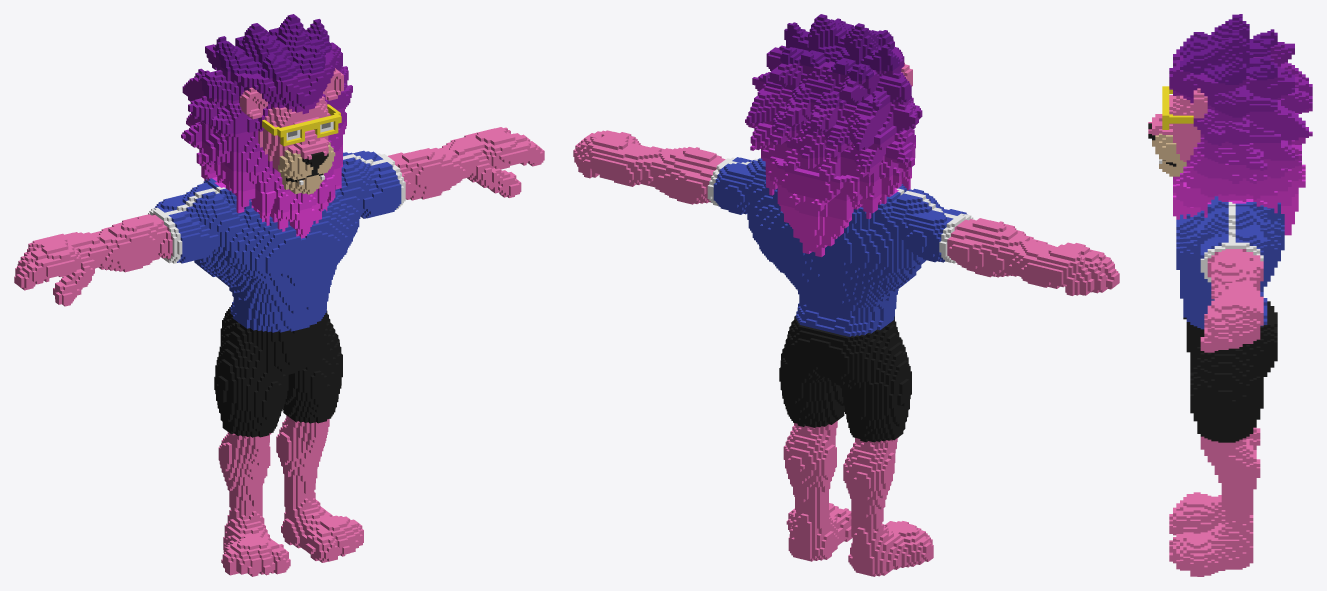
The model's file is 911-BH0RHro3.glb.
3 views of the same model, side by side, from view 1: azimuth 30°, elevation 25°; view 2: azimuth 150°, elevation 25°; view 3: azimuth 270°, elevation 25° (orthographic). The views are drawn at different scales.
Parts seen in each view (by area): view 1: standard; view 2: standard; view 3: standard.
Part boxes in pixels (left/top/right/bottom): standard: left=14, top=14, right=544, bottom=576; standard: left=573, top=14, right=1119, bottom=576; standard: left=1148, top=14, right=1312, bottom=576.
Size of the model in its own units: 17.2 by 16.5 by 4.7.
5 materials, 5 textured.
